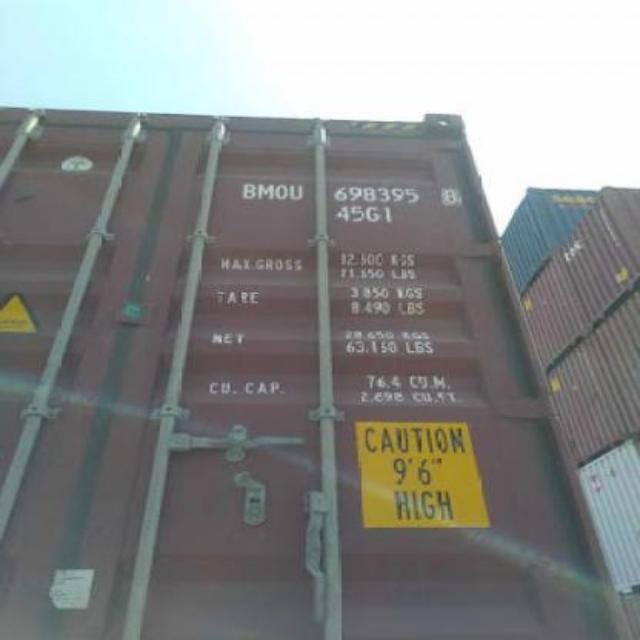3: (378, 188, 394, 202)
5: (404, 184, 418, 206)
6: (334, 183, 348, 201)
8: (438, 186, 458, 207), (362, 184, 378, 206)
9: (390, 187, 406, 203), (350, 187, 360, 203)
B: (242, 182, 255, 198)
M: (257, 184, 273, 200)
O: (274, 183, 290, 201)
U: (290, 183, 304, 199)
